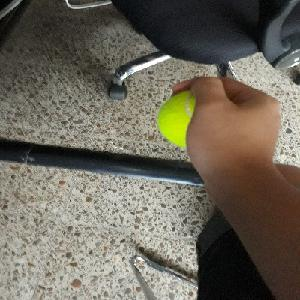Ball: (156, 90, 196, 147)
